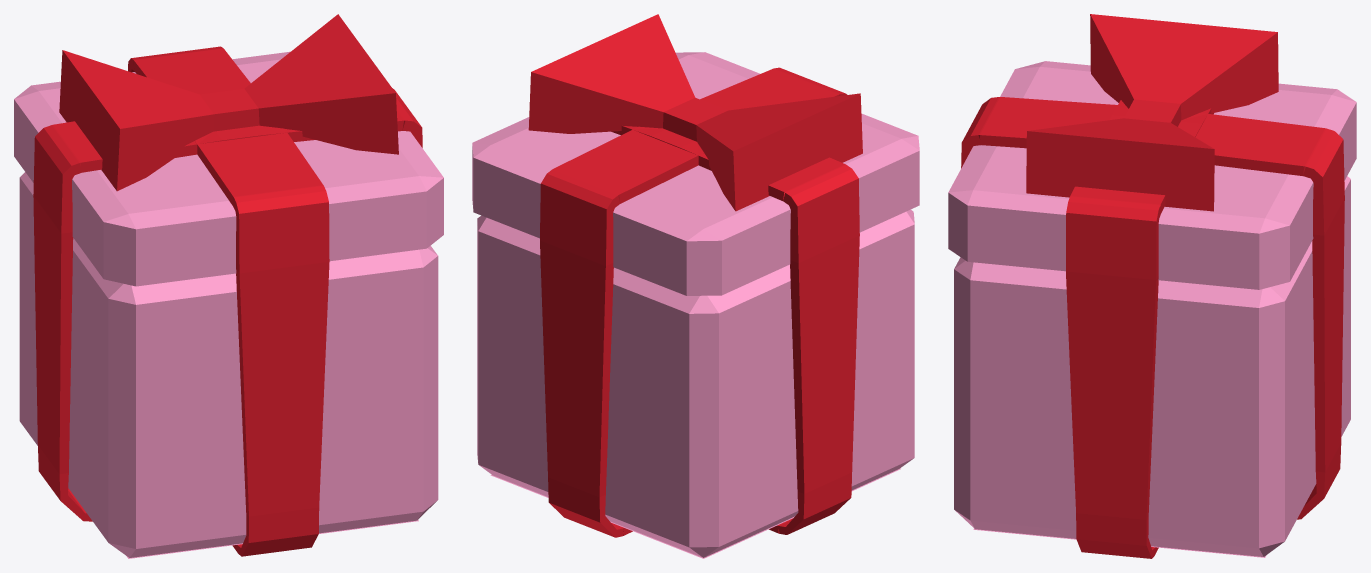
The model's file is gift3.fbx.
3 views of the same model, side by side, from view 1: azimuth 30°, elevation 25°; view 2: azimuth 150°, elevation 25°; view 3: azimuth 270°, elevation 25° (orthographic). The views are drawn at different scales.
Visible parts, largest first — view 1: 立方體.084; view 2: 立方體.084; view 3: 立方體.084.
Part boxes in pixels (bbox=[...]): 立方體.084: bbox=[14, 14, 443, 558]; 立方體.084: bbox=[472, 14, 919, 558]; 立方體.084: bbox=[948, 14, 1356, 558].
Bounding box in the file's own units: 916 × 1014 × 916.
